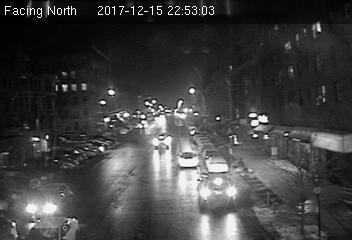car: (24, 183, 74, 217), (198, 174, 240, 208), (23, 216, 78, 240), (205, 155, 231, 175), (177, 151, 198, 168), (152, 134, 170, 149)
